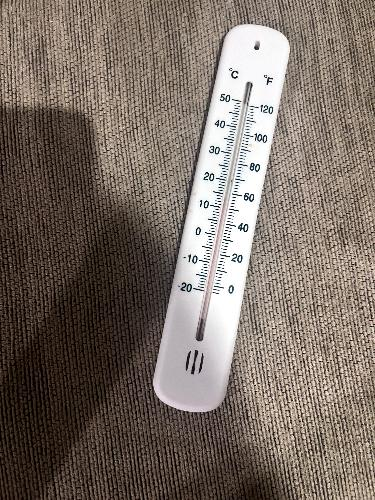thermo: (148, 24, 299, 415)
